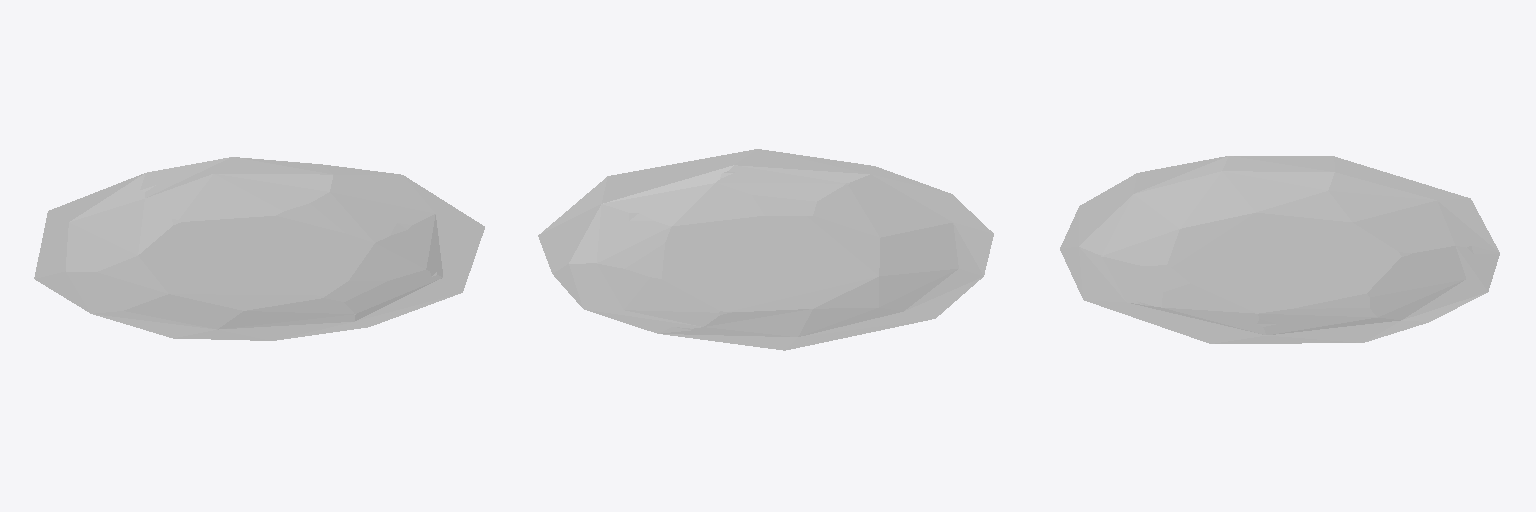
File: Dish.obj
The picture shows the model from 3 angles: view 1: azimuth 30°, elevation 25°; view 2: azimuth 150°, elevation 25°; view 3: azimuth 270°, elevation 25°; orthographic projection.
Bounding box in the file's own units: 23.76 × 1.03 × 23.27.